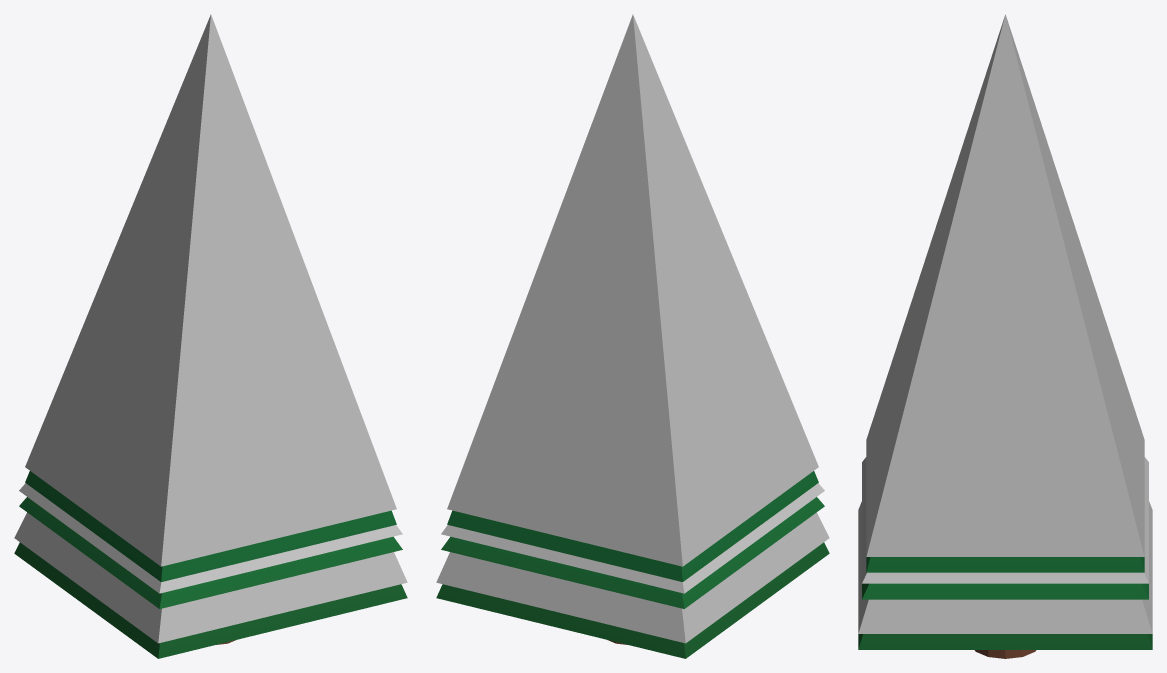
File: Tree_34_winter_gradient_green_vc.fbx
3 views of the same model, side by side, from view 1: azimuth 30°, elevation 25°; view 2: azimuth 150°, elevation 25°; view 3: azimuth 270°, elevation 25° (orthographic). The views are drawn at different scales.
Parts seen in each view (by area): view 1: Tree_34_winter_gradient_green_vc; view 2: Tree_34_winter_gradient_green_vc; view 3: Tree_34_winter_gradient_green_vc.
Boxes of the visible parts, bbox=[...] form: Tree_34_winter_gradient_green_vc: bbox=[14, 14, 407, 658]; Tree_34_winter_gradient_green_vc: bbox=[436, 14, 829, 658]; Tree_34_winter_gradient_green_vc: bbox=[858, 14, 1152, 658].
Bounding box in the file's own units: 83.78 × 198 × 83.78.
